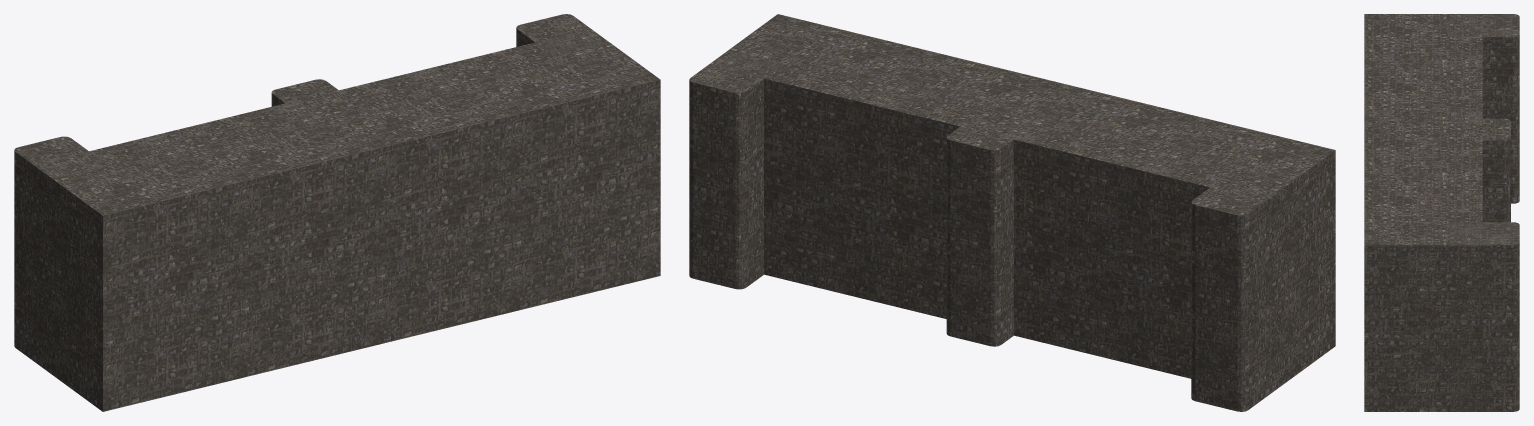
The model's file is CastleWall_Lifter2.fbx.
3 renders of one model, left to right at view 1: azimuth 30°, elevation 25°; view 2: azimuth 150°, elevation 25°; view 3: azimuth 270°, elevation 25°, orthographic. The views are drawn at different scales.
Visible parts, largest first — view 1: CastleWall_Lifter2; view 2: CastleWall_Lifter2; view 3: CastleWall_Lifter2.
Part boxes in pixels (x1,y1,x2,y2): CastleWall_Lifter2: (14,14,660,411); CastleWall_Lifter2: (689,14,1335,411); CastleWall_Lifter2: (1364,14,1519,411).
Bounding box in the file's own units: 1250 × 420 × 355.
